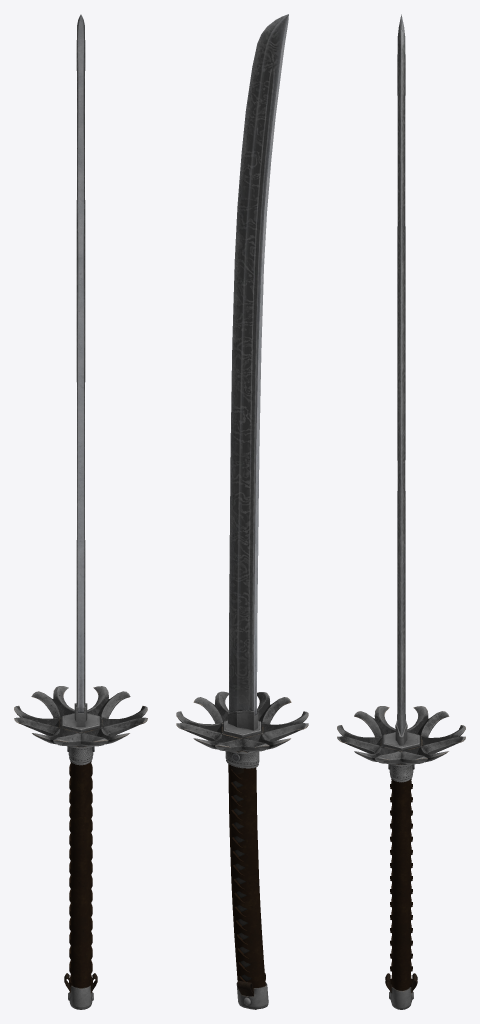
Rendered from wip_katana.glb.
3 renders of one model, left to right at view 1: azimuth 90°, elevation 25°; view 2: azimuth 150°, elevation 25°; view 3: azimuth 270°, elevation 25°, orthographic. The views are drawn at different scales.
Visible parts, largest first — view 1: BladeFinale_Low, OpletkaRukoyatiFinale_Low, GardFlowerFinale_Low, HabakiFinale_Low, PostGardFinale_Low, PredgardFinale_Low; view 2: BladeFinale_Low, OpletkaRukoyatiFinale_Low, GardFlowerFinale_Low, BaseRukoyatFinale_Low, HabakiFinale_Low, DerzhaloKlinkaFinale_Low, PredgardFinale_Low, PostGardFinale_Low; view 3: BladeFinale_Low, OpletkaRukoyatiFinale_Low, GardFlowerFinale_Low, PostGardFinale_Low, HabakiFinale_Low, PredgardFinale_Low.
Boxes of the visible parts, x1=… form: BladeFinale_Low: x1=76, y1=14, x2=85, y2=712; OpletkaRukoyatiFinale_Low: x1=69, y1=761, x2=92, y2=988; GardFlowerFinale_Low: x1=14, y1=686, x2=147, y2=746; HabakiFinale_Low: x1=68, y1=985, x2=93, y2=1009; PostGardFinale_Low: x1=62, y1=713, x2=99, y2=731; PredgardFinale_Low: x1=67, y1=746, x2=93, y2=765; BladeFinale_Low: x1=229, y1=14, x2=288, y2=715; OpletkaRukoyatiFinale_Low: x1=228, y1=764, x2=265, y2=991; GardFlowerFinale_Low: x1=176, y1=691, x2=308, y2=751; BaseRukoyatFinale_Low: x1=232, y1=781, x2=253, y2=993; HabakiFinale_Low: x1=236, y1=982, x2=268, y2=1009; DerzhaloKlinkaFinale_Low: x1=228, y1=708, x2=258, y2=730; PredgardFinale_Low: x1=225, y1=751, x2=259, y2=768; PostGardFinale_Low: x1=224, y1=720, x2=260, y2=737; BladeFinale_Low: x1=397, y1=14, x2=405, y2=735; OpletkaRukoyatiFinale_Low: x1=390, y1=778, x2=412, y2=990; GardFlowerFinale_Low: x1=337, y1=706, x2=465, y2=764; PostGardFinale_Low: x1=383, y1=732, x2=419, y2=750; HabakiFinale_Low: x1=389, y1=987, x2=413, y2=1009; PredgardFinale_Low: x1=389, y1=764, x2=413, y2=782.
Bounding box in the file's own units: 0.2333 × 2 × 0.2396.
1 material, 1 textured.
